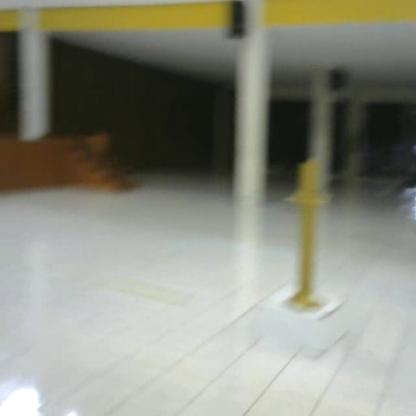pole: (279, 154, 339, 320)
